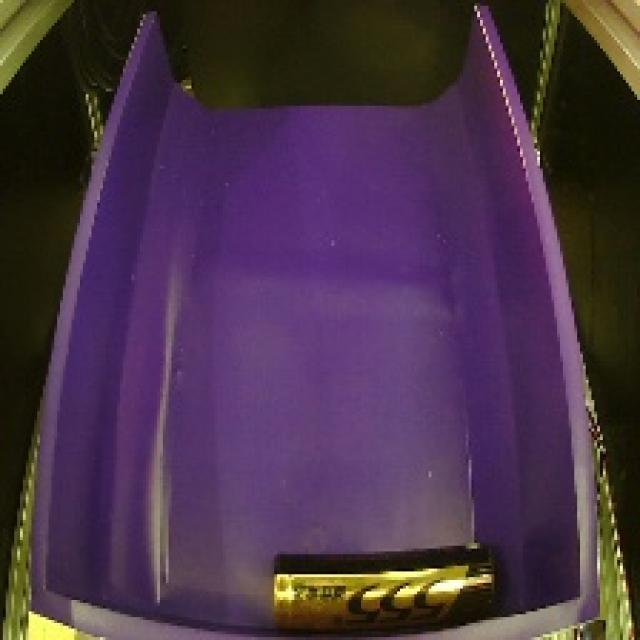battery: (253, 532, 505, 640)
